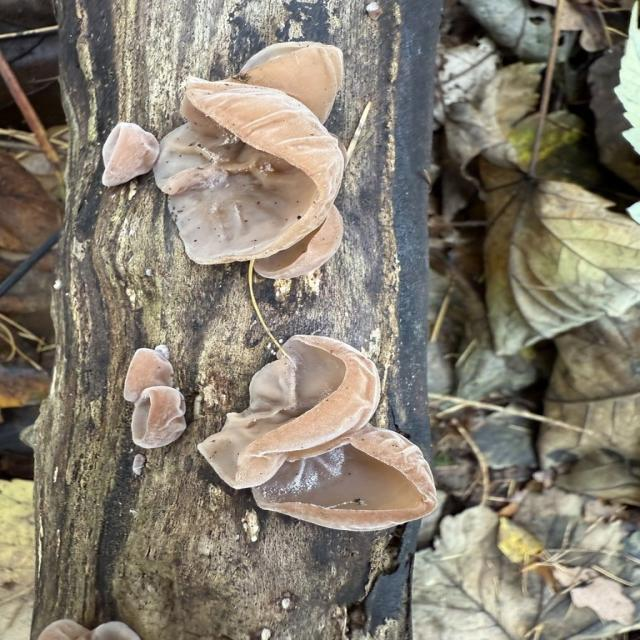Fase Muda: (152, 76, 346, 268), (196, 331, 384, 492), (250, 418, 445, 536), (221, 35, 350, 129), (248, 200, 350, 286), (95, 118, 168, 192), (126, 381, 191, 450), (119, 342, 176, 406)
